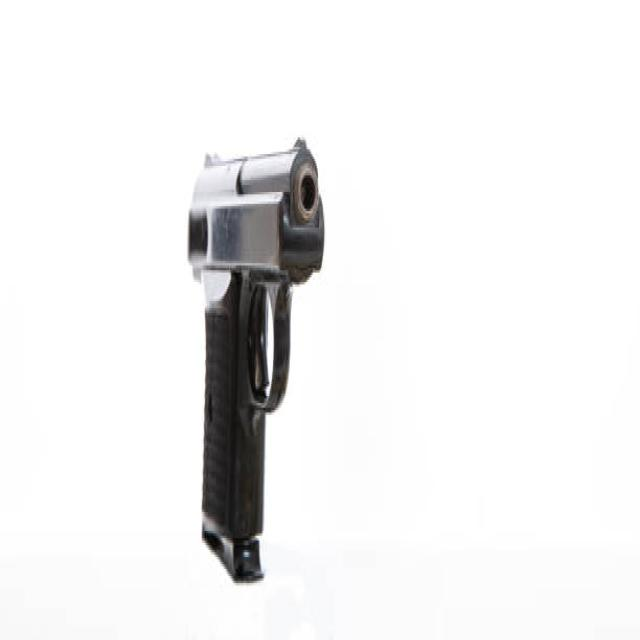pistol: (186, 128, 331, 587)
